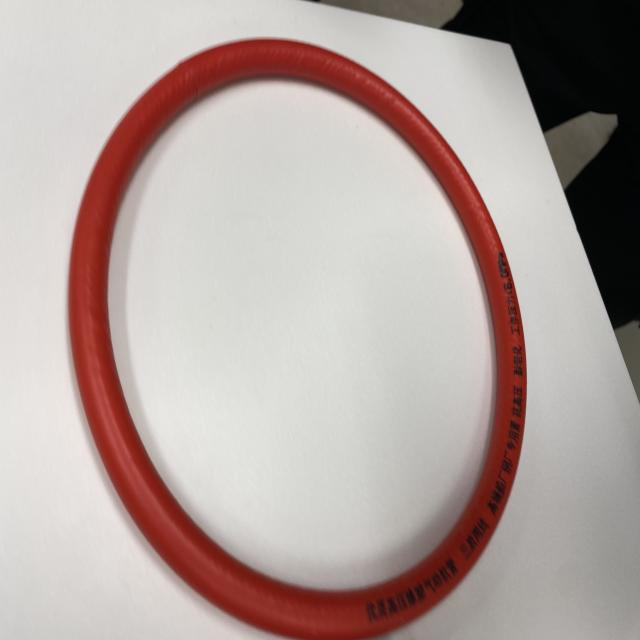daire: (64, 32, 532, 640)
